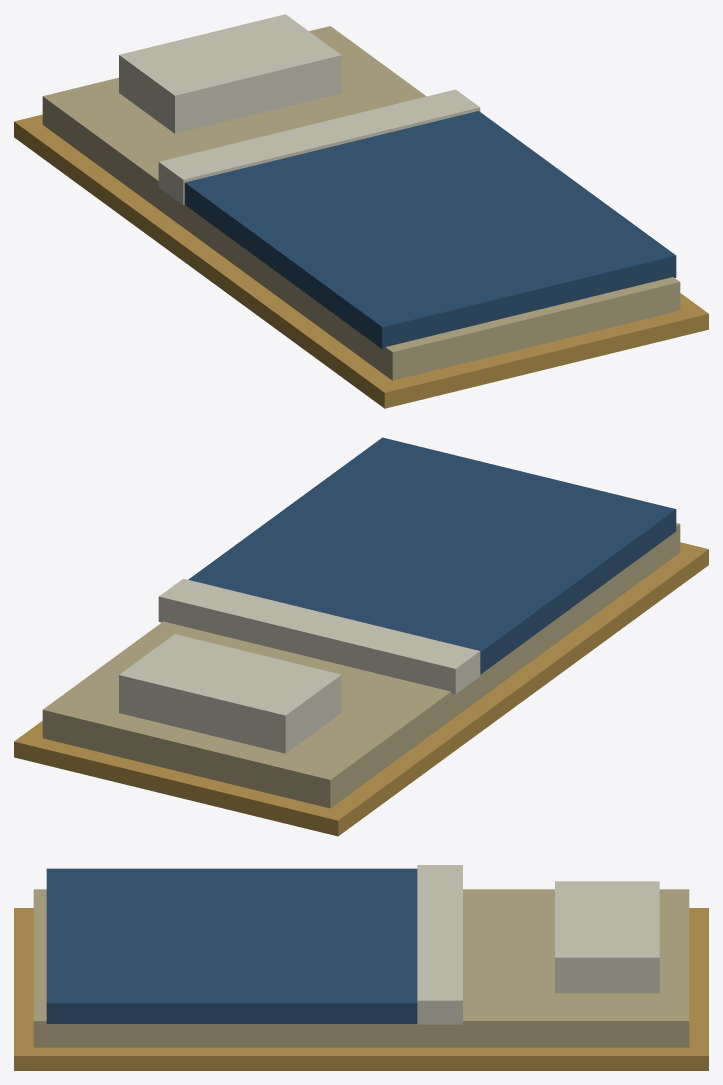
Rendered from Bedroll.fbx.
3 renders of one model, top to bottom at view 1: azimuth 30°, elevation 25°; view 2: azimuth 150°, elevation 25°; view 3: azimuth 270°, elevation 25°, orthographic. The views are drawn at different scales.
Visible parts, largest first — view 1: Bedroll; view 2: Bedroll; view 3: Bedroll.
Part boxes in pixels (x1=…): Bedroll: x1=14, y1=14, x2=708, y2=408; Bedroll: x1=14, y1=437, x2=708, y2=836; Bedroll: x1=14, y1=865, x2=708, y2=1070.
Size of the model in its own units: 1.07 by 0.26 by 2.12.
